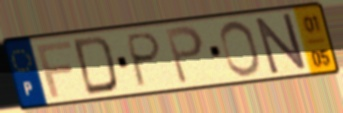D: (71, 33, 121, 97)
F: (33, 38, 74, 99)
N: (253, 11, 309, 77)
O: (218, 18, 264, 78)
P: (163, 24, 206, 87), (124, 30, 164, 90)
